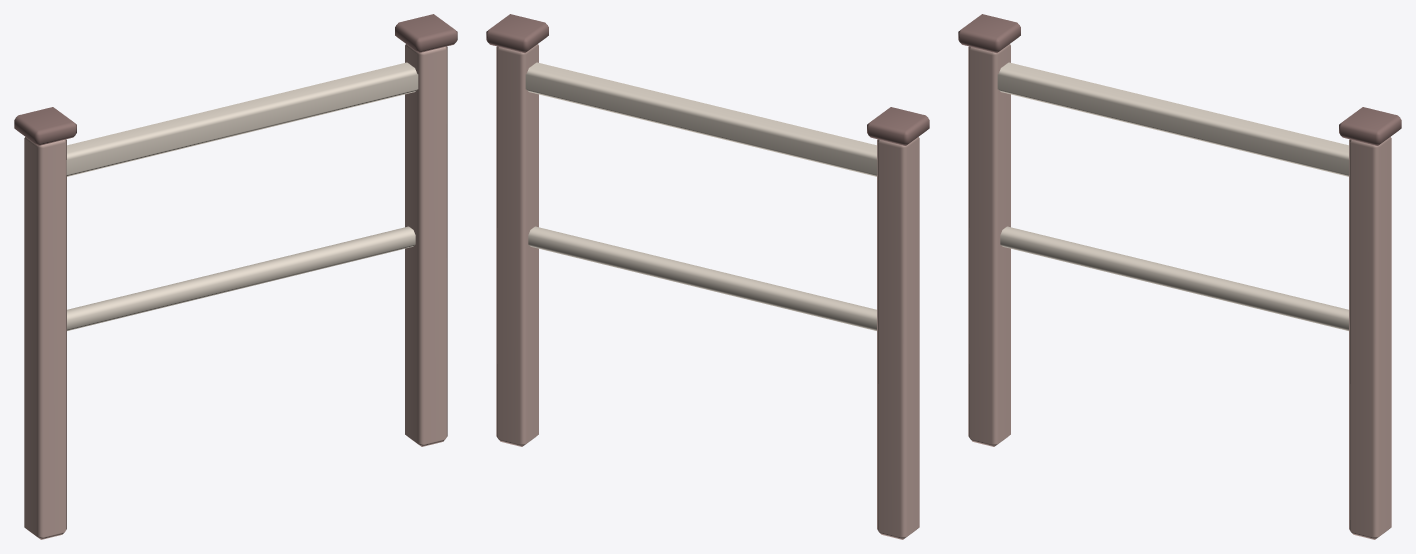
The model's file is pier_rail.glb.
3 views of the same model, side by side, from view 1: azimuth 30°, elevation 25°; view 2: azimuth 150°, elevation 25°; view 3: azimuth 330°, elevation 25° (orthographic).
Visible parts, largest first — view 1: Rail; view 2: Rail; view 3: Rail.
Part boxes in pixels (left/top/right/bottom): Rail: left=14, top=14, right=457, bottom=539; Rail: left=486, top=14, right=929, bottom=539; Rail: left=958, top=14, right=1401, bottom=539.
Size of the model in its own units: 1.11 by 1.04 by 0.112.
